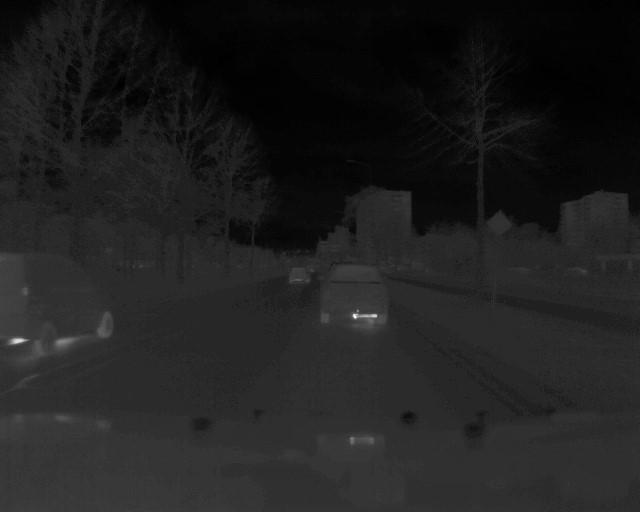car: (1, 251, 119, 353), (319, 263, 392, 333), (287, 264, 311, 286)
